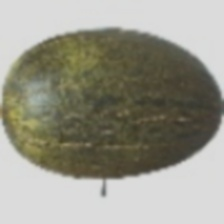honeydew: (5, 39, 179, 223)
